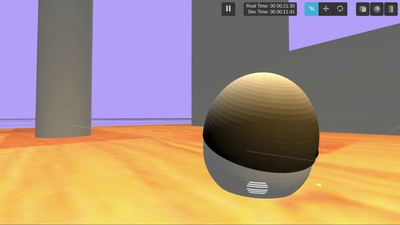mira_robot: (202, 71, 319, 199)
